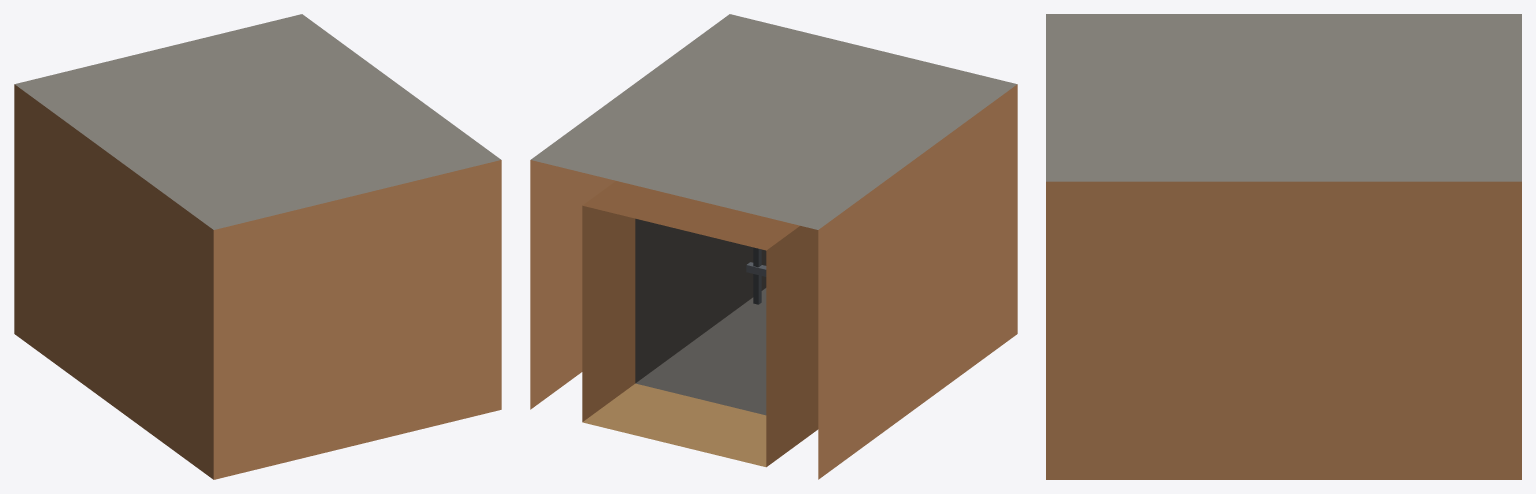
The model's file is SM_ProvGateTunnel.fbx.
3 renders of one model, left to right at view 1: azimuth 30°, elevation 25°; view 2: azimuth 150°, elevation 25°; view 3: azimuth 270°, elevation 25°, orthographic. The views are drawn at different scales.
Parts seen in each view (by area): view 1: SM_ProvGateTunnel_Tunnel; view 2: SM_ProvGateTunnel_Tunnel; view 3: SM_ProvGateTunnel_Tunnel.
Boxes of the visible parts, x1,y1,x2,y2 form: SM_ProvGateTunnel_Tunnel: [14, 14, 501, 479]; SM_ProvGateTunnel_Tunnel: [530, 14, 1017, 479]; SM_ProvGateTunnel_Tunnel: [1046, 14, 1521, 479].
Bounding box in the file's own units: 5 × 6 × 4.15.
